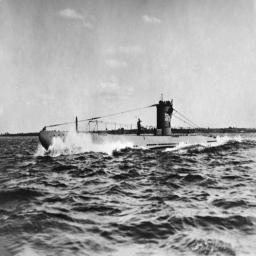submarine: (42, 107, 244, 153)
